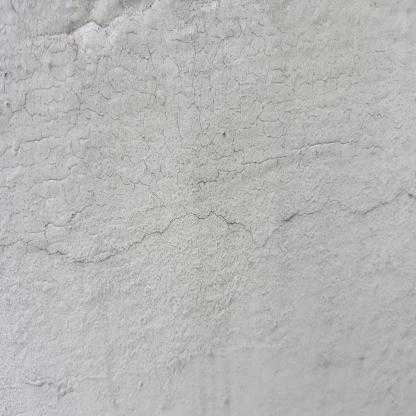crack: (26, 185, 414, 267)
